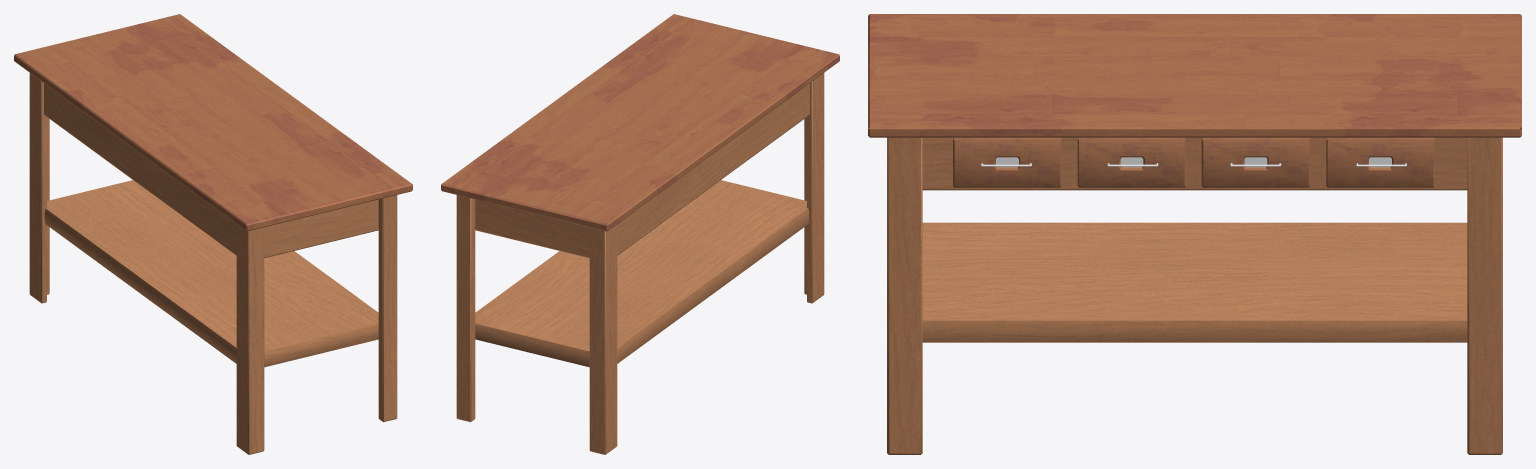
The model's file is workbench.fbx.
3 renders of one model, left to right at view 1: azimuth 30°, elevation 25°; view 2: azimuth 150°, elevation 25°; view 3: azimuth 270°, elevation 25°, orthographic. The views are drawn at different scales.
Visible parts, largest first — view 1: Cube.005; view 2: Cube.005; view 3: Cube.005, Cube.012, Cube.013, Cube.010, Cube.011.
Boxes of the visible parts, left/top/right/bottom form: Cube.005: left=14, top=14, right=412, bottom=454; Cube.005: left=441, top=14, right=839, bottom=454; Cube.005: left=868, top=14, right=1521, bottom=454; Cube.012: left=1077, top=137, right=1186, bottom=187; Cube.013: left=1201, top=137, right=1310, bottom=187; Cube.010: left=1326, top=137, right=1434, bottom=187; Cube.011: left=953, top=137, right=1061, bottom=187.
Bounding box in the file's own units: 3.88 × 5.29 × 9.38.
5 materials, 3 textured.
